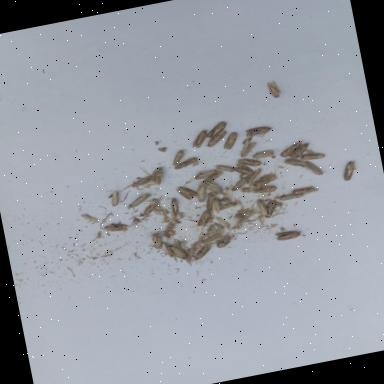pbw: (276, 138, 309, 160), (125, 192, 154, 210), (127, 174, 155, 192), (166, 242, 188, 264), (338, 162, 359, 184), (236, 138, 259, 158), (244, 124, 272, 140), (188, 131, 210, 151), (201, 178, 223, 198), (140, 197, 162, 217), (288, 142, 312, 160), (204, 131, 228, 149), (251, 172, 277, 188), (272, 229, 304, 242), (282, 155, 309, 170), (304, 158, 324, 178), (215, 232, 237, 250), (206, 122, 228, 140), (176, 184, 198, 202), (249, 182, 277, 196), (101, 222, 128, 236), (174, 156, 200, 170), (237, 156, 263, 170), (221, 132, 240, 151), (192, 246, 214, 262), (193, 210, 212, 228), (262, 200, 280, 219), (200, 170, 224, 184), (276, 191, 304, 203), (231, 164, 254, 178), (252, 148, 275, 162), (244, 168, 264, 184), (150, 167, 166, 187), (266, 80, 282, 100), (300, 151, 326, 163), (194, 182, 208, 204), (193, 169, 218, 181), (149, 231, 164, 251), (230, 177, 250, 192), (201, 232, 223, 245), (170, 150, 187, 166), (256, 198, 270, 217), (215, 215, 230, 232), (232, 212, 246, 230), (80, 212, 99, 225), (214, 163, 234, 175), (292, 186, 316, 196), (210, 195, 222, 214), (169, 196, 180, 214), (109, 191, 120, 207), (204, 198, 215, 214), (216, 202, 236, 210), (214, 222, 224, 235), (240, 186, 254, 195)
